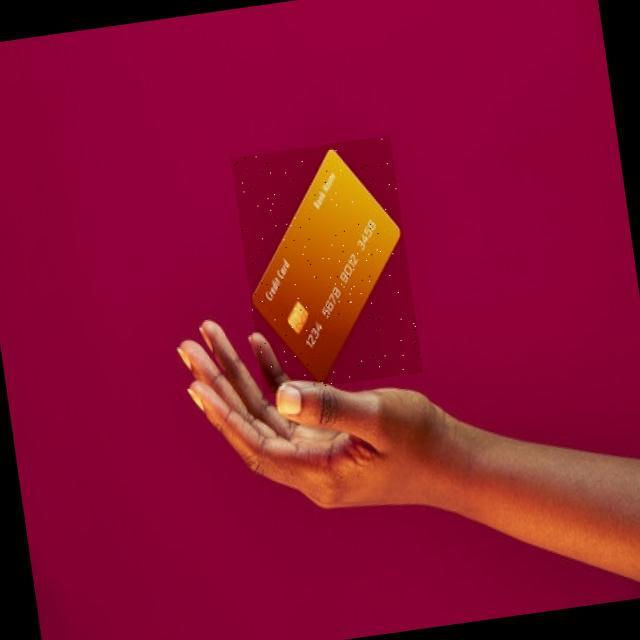payment_card: (238, 141, 407, 383)
